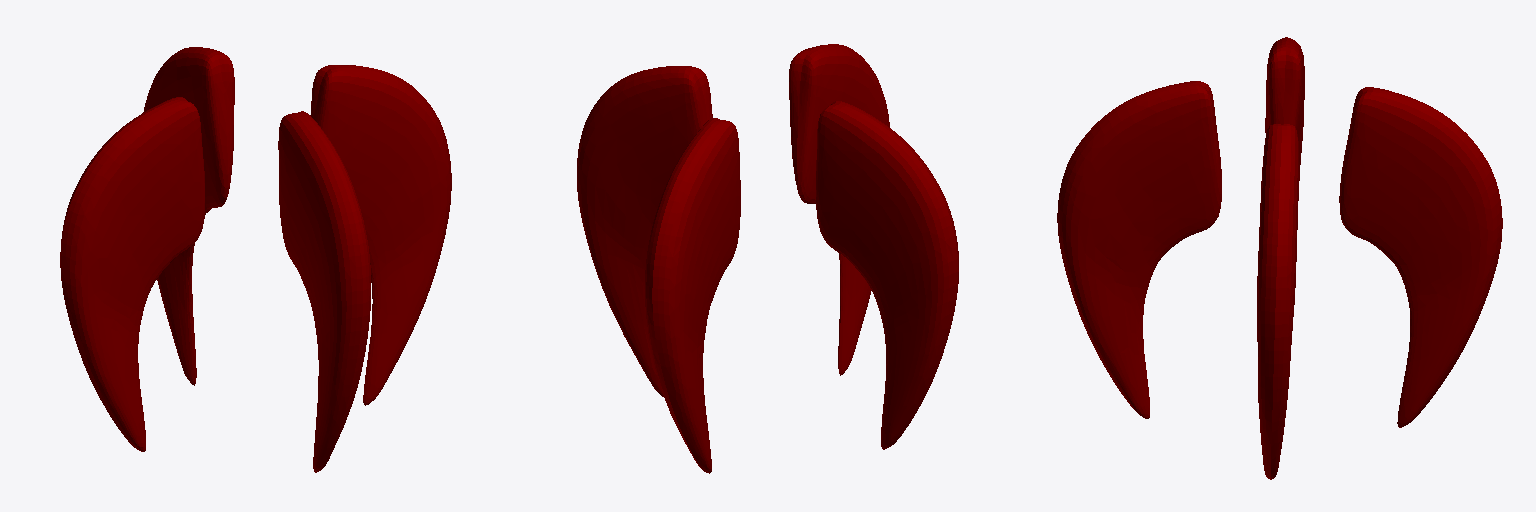
3 renders of one model, left to right at view 1: azimuth 30°, elevation 25°; view 2: azimuth 150°, elevation 25°; view 3: azimuth 270°, elevation 25°, orthographic.
Visible parts, largest first — view 1: legs_Legs_Cube; view 2: legs_Legs_Cube; view 3: legs_Legs_Cube.
Boxes of the visible parts, x1=… form: legs_Legs_Cube: x1=60, y1=47, x2=451, y2=472; legs_Legs_Cube: x1=577, y1=44, x2=958, y2=473; legs_Legs_Cube: x1=1057, y1=37, x2=1502, y2=479.
Bounding box in the file's own units: 1.43 × 1.23 × 1.43.
Materials: 1 (1 with a texture image).